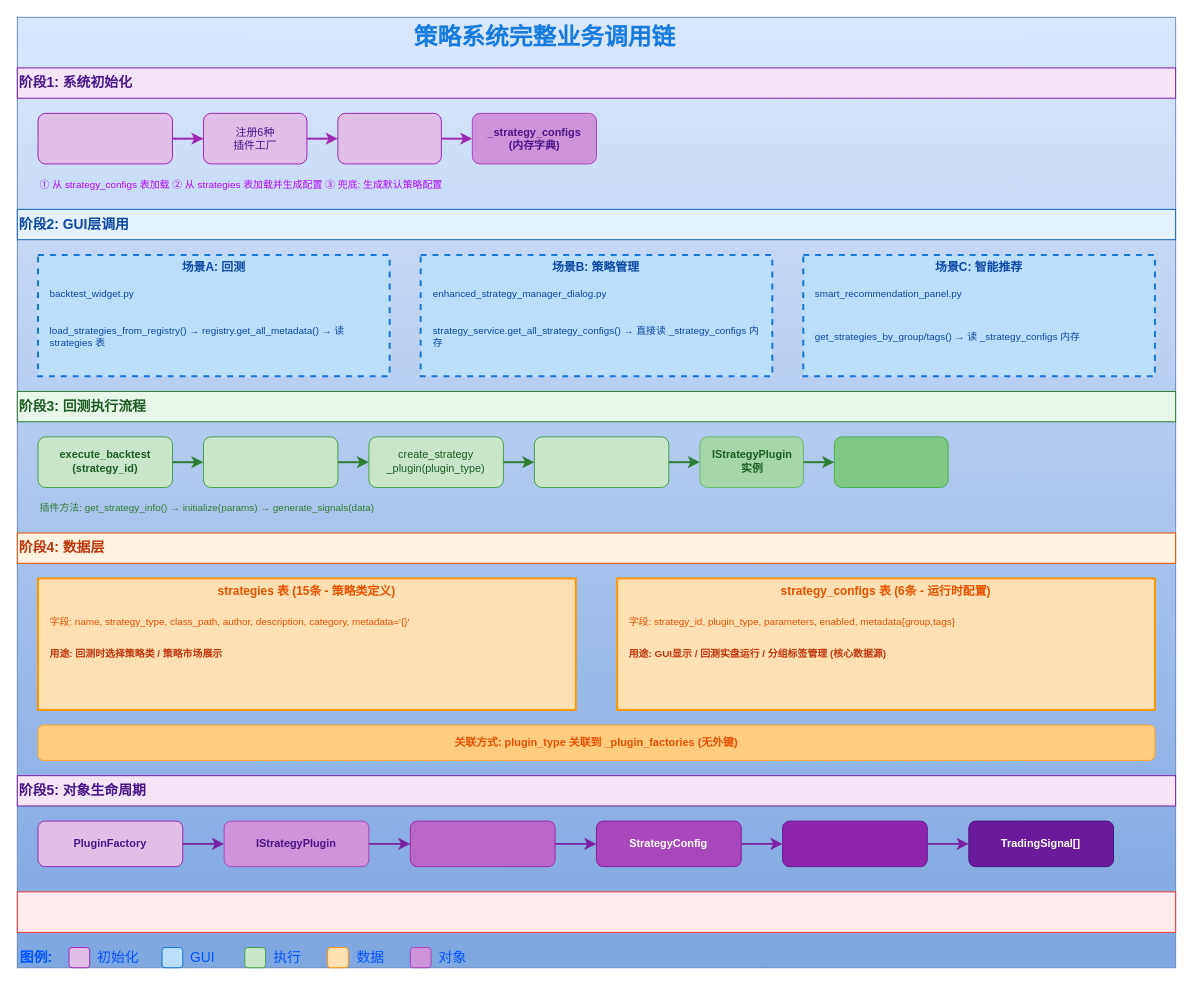
Some shapes in this 1193 by 985 pixel diagram are drawn without their labels. The shapes that lost their labels are listed below. From the top down, each one's box as (x1, y1, x2, y2) in pixels, then its label:
(37, 112, 172, 164): StrategyService .__init__()
(337, 112, 441, 164): 加载策略配置 (3步)
(202, 436, 338, 487): get_strategy_config (从内存读取)
(533, 436, 669, 487): _plugin_factories [plugin_type]() (工厂创建)
(833, 436, 948, 487): TradingSignal[] (交易信号)
(409, 820, 555, 867): StrategyInfo
(782, 820, 927, 867): BaseStrategy
(16, 891, 1176, 932): 核心结论: GUI 主要使用 strategy_configs (核心数据源)，strategies 表 主要用于回测时选择策略类
